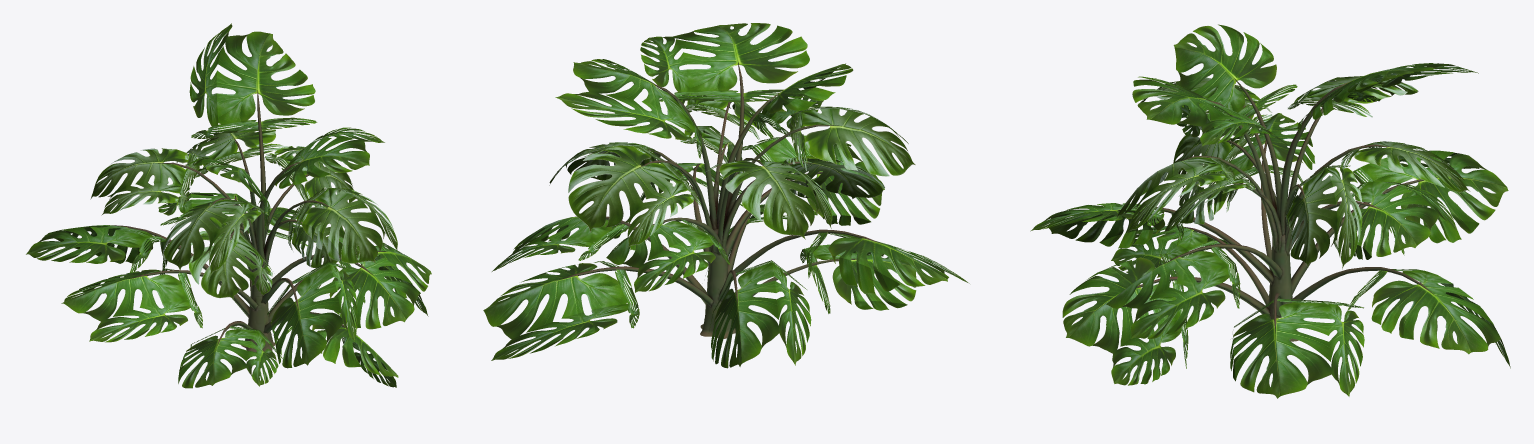
Rendered from monstera-a.glb.
3 renders of one model, left to right at view 1: azimuth 30°, elevation 25°; view 2: azimuth 150°, elevation 25°; view 3: azimuth 270°, elevation 25°, orthographic. The views are drawn at different scales.
Parts seen in each view (by area): view 1: monstera-a; view 2: monstera-a; view 3: monstera-a.
Part boxes in pixels (x1,y1,x2,y2): monstera-a: [26, 23, 431, 388]; monstera-a: [483, 23, 969, 368]; monstera-a: [1030, 24, 1510, 398].
Size of the model in its own units: 3.47 by 2.47 by 3.27.
Materials: 3 (3 with a texture image).
